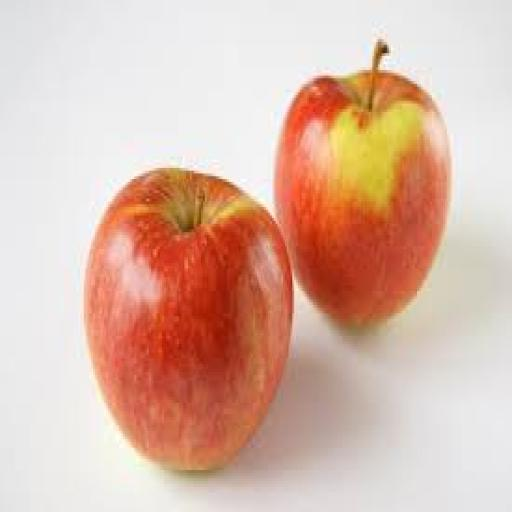apple: (86, 168, 292, 470), (276, 42, 450, 324)
